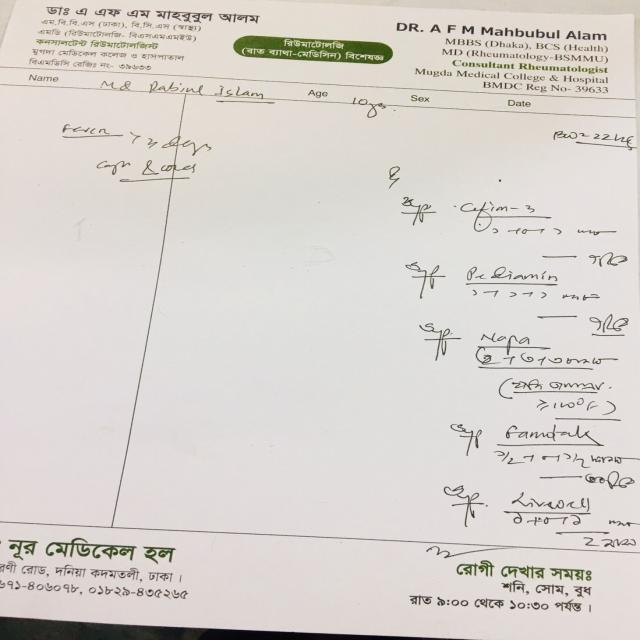Cefim-3: (456, 194, 549, 222)
Famotack: (498, 422, 595, 444)
Livodel: (508, 489, 593, 512)
Napa: (478, 325, 539, 346)
Pedeamin: (455, 259, 560, 284)
